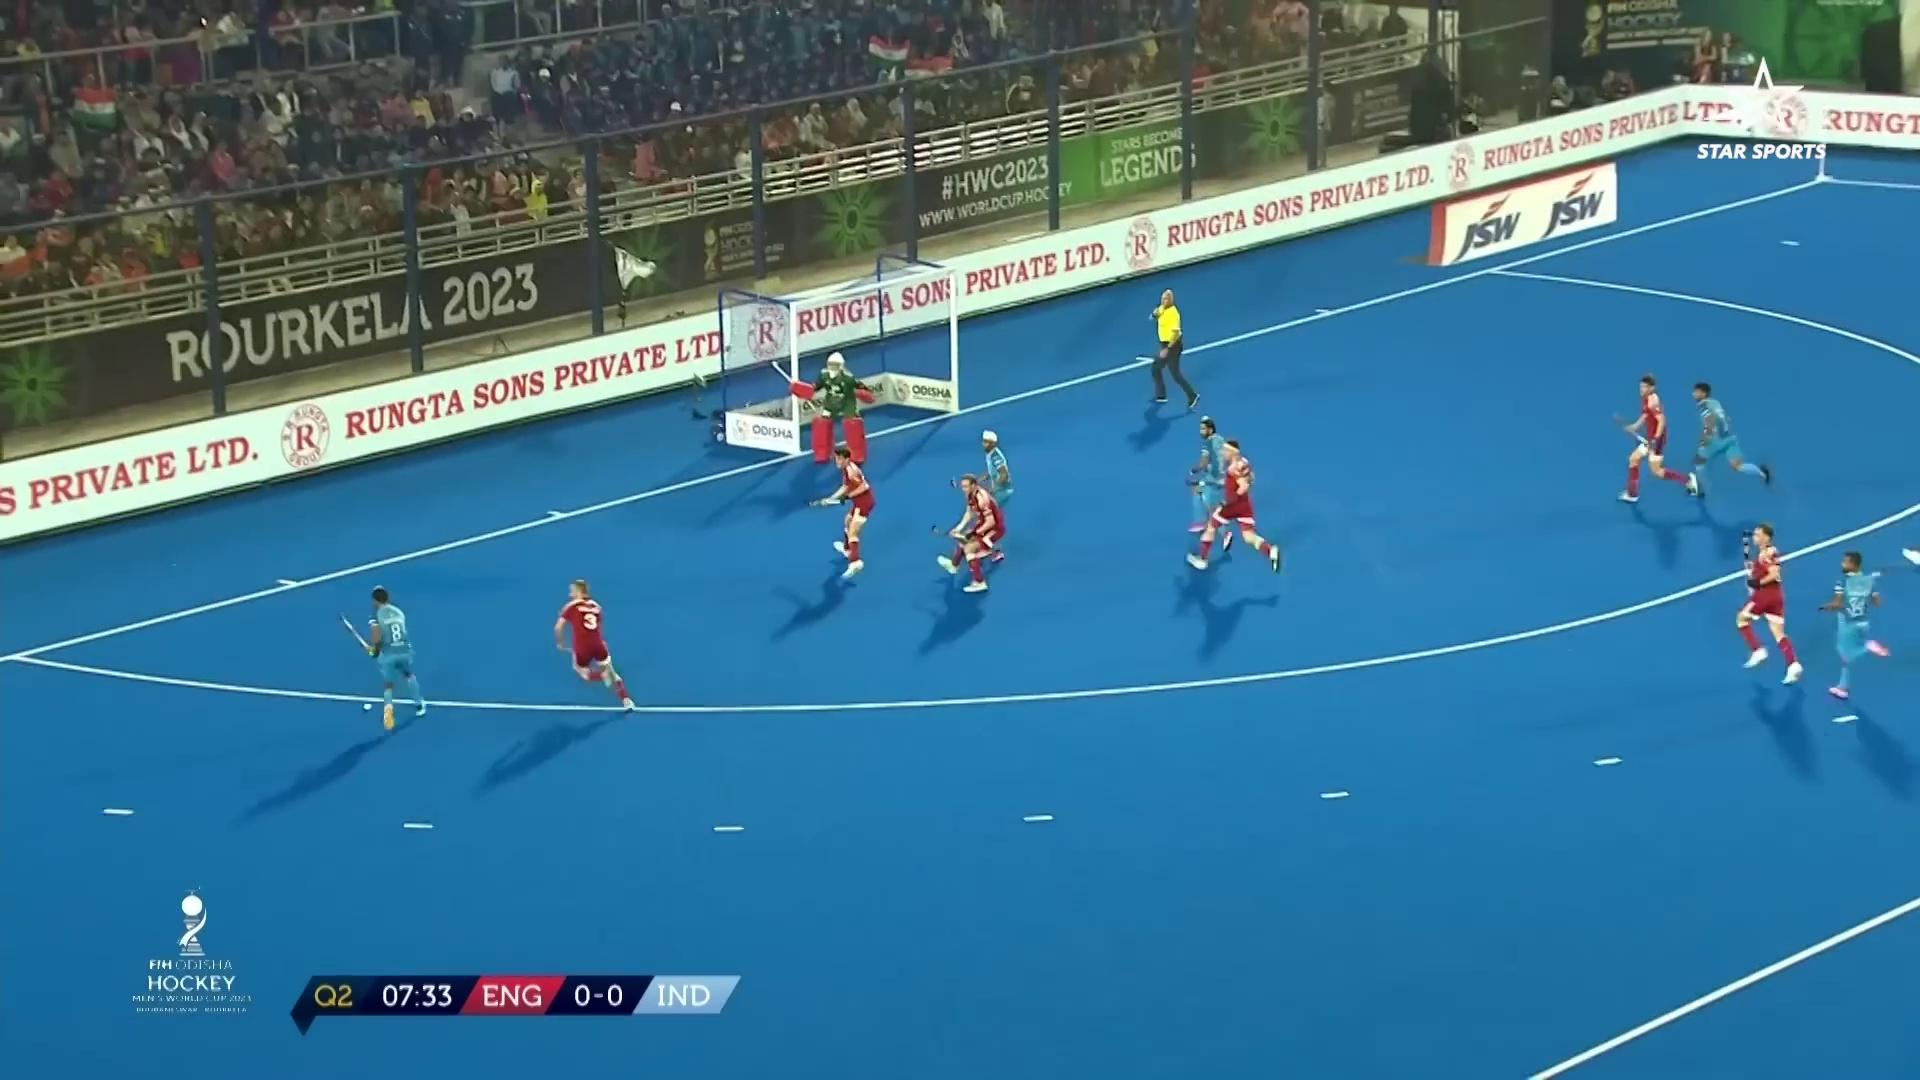ball: (345, 684, 385, 716)
